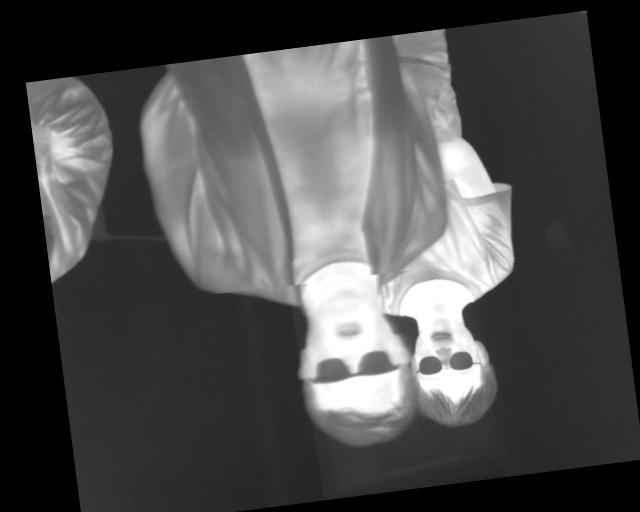face: (288, 285, 419, 457), (407, 310, 503, 434)
